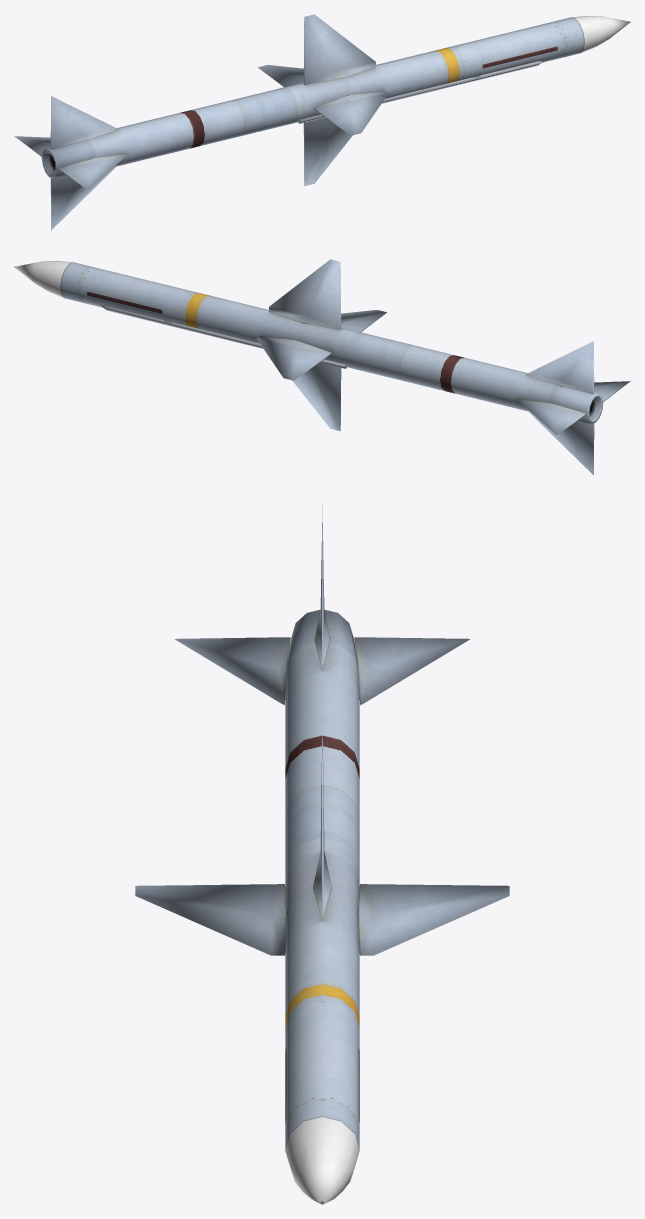
The model's file is aim7.glb.
3 renders of one model, top to bottom at view 1: azimuth 30°, elevation 25°; view 2: azimuth 150°, elevation 25°; view 3: azimuth 270°, elevation 25°, orthographic. The views are drawn at different scales.
Visible parts, largest first — view 1: AIM-7 Sparrow; view 2: AIM-7 Sparrow; view 3: AIM-7 Sparrow.
Part boxes in pixels (left/top/right/bottom): AIM-7 Sparrow: left=14, top=14, right=630, bottom=230; AIM-7 Sparrow: left=14, top=259, right=630, bottom=475; AIM-7 Sparrow: left=135, top=505, right=509, bottom=1204.
Bounding box in the file's own units: 3.72 × 1.04 × 1.04.
Materials: 1 (1 with a texture image).
